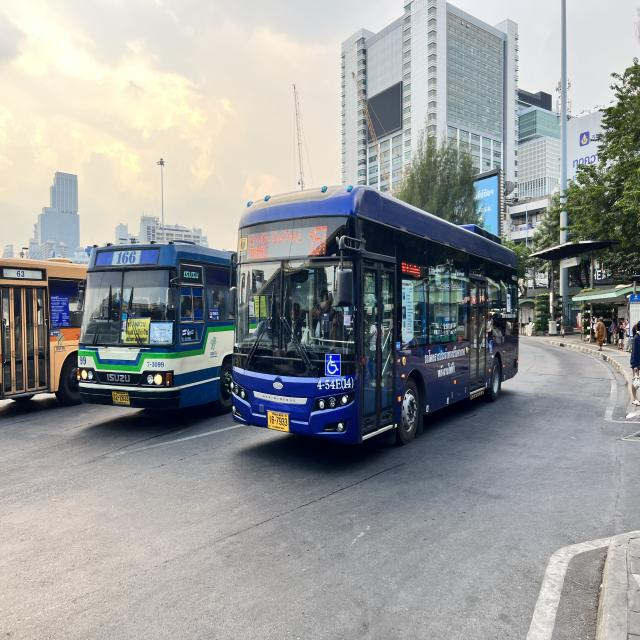BMTA-bus: (67, 244, 235, 414), (0, 258, 87, 407)
Bus Line Number: (308, 221, 333, 258), (114, 247, 138, 269), (14, 266, 27, 280)
Bus Side Number: (313, 377, 355, 394), (145, 358, 166, 371)
Destination Sign: (247, 228, 306, 259), (124, 318, 150, 345)
TSB-Bus: (227, 187, 519, 450)
